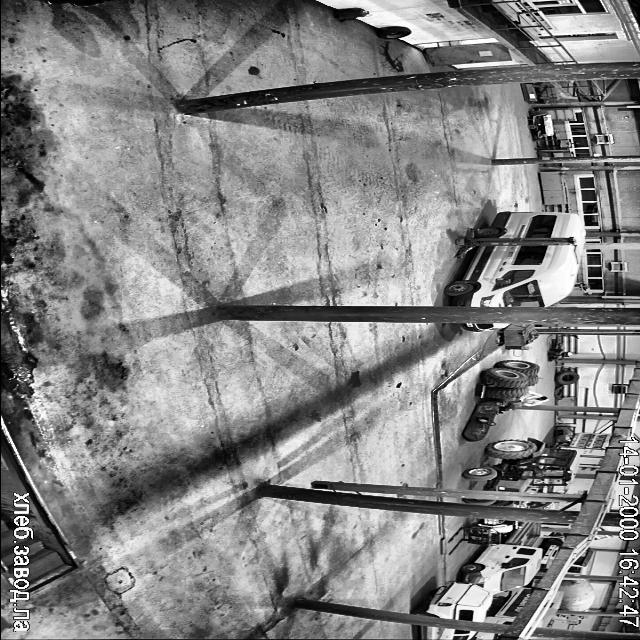class4: (508, 392, 548, 408), (46, 0, 109, 5)
class6: (462, 438, 579, 492), (463, 498, 500, 504), (503, 500, 504, 502)
class7: (444, 212, 585, 307), (461, 522, 541, 593), (412, 580, 492, 620), (484, 588, 532, 624), (557, 576, 595, 610), (535, 593, 560, 626), (421, 626, 475, 640), (567, 548, 595, 574), (542, 536, 563, 564), (462, 323, 508, 332), (556, 615, 585, 624), (476, 632, 498, 640)
tractor: (334, 8, 368, 21)
truck: (455, 228, 576, 256)
